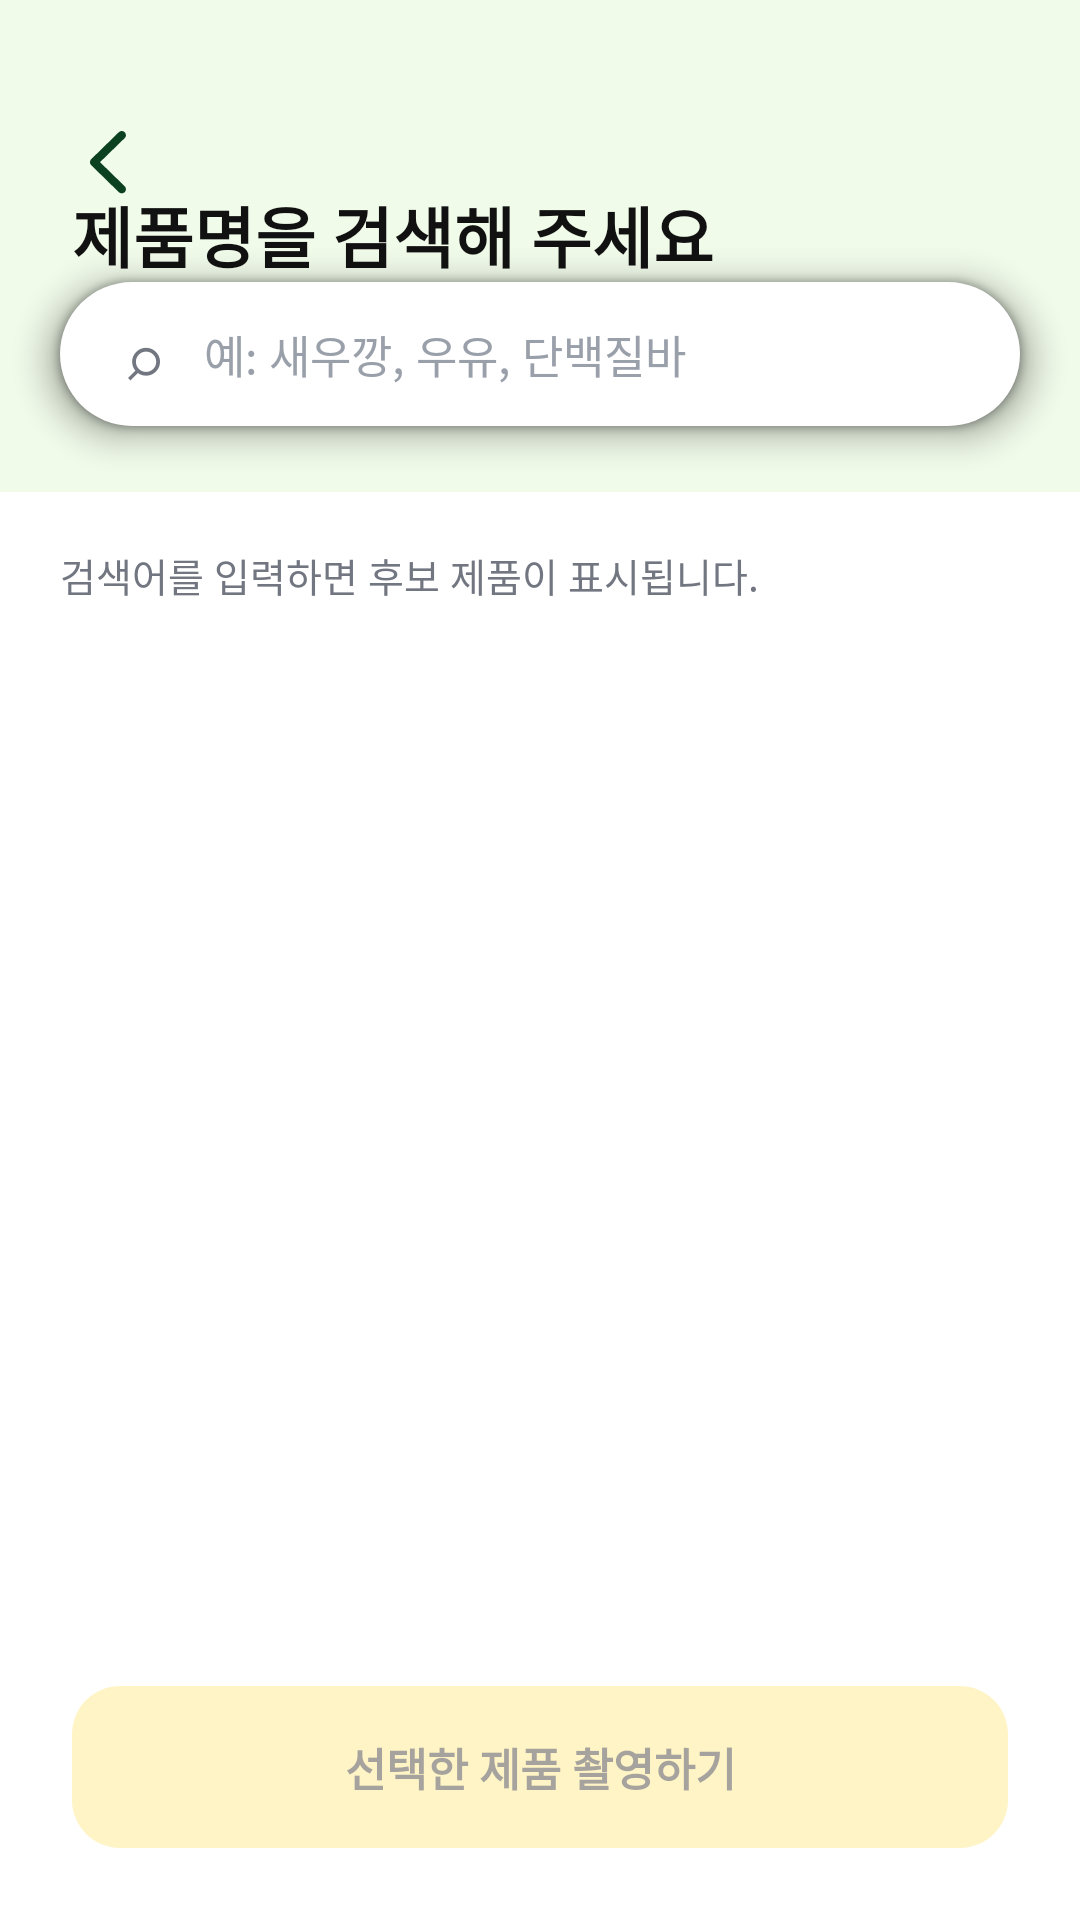

Point at icon controls on the screen. Image size 1080*1920, points as (x=x, y=y).
뒤로가기: (x=108, y=162)
